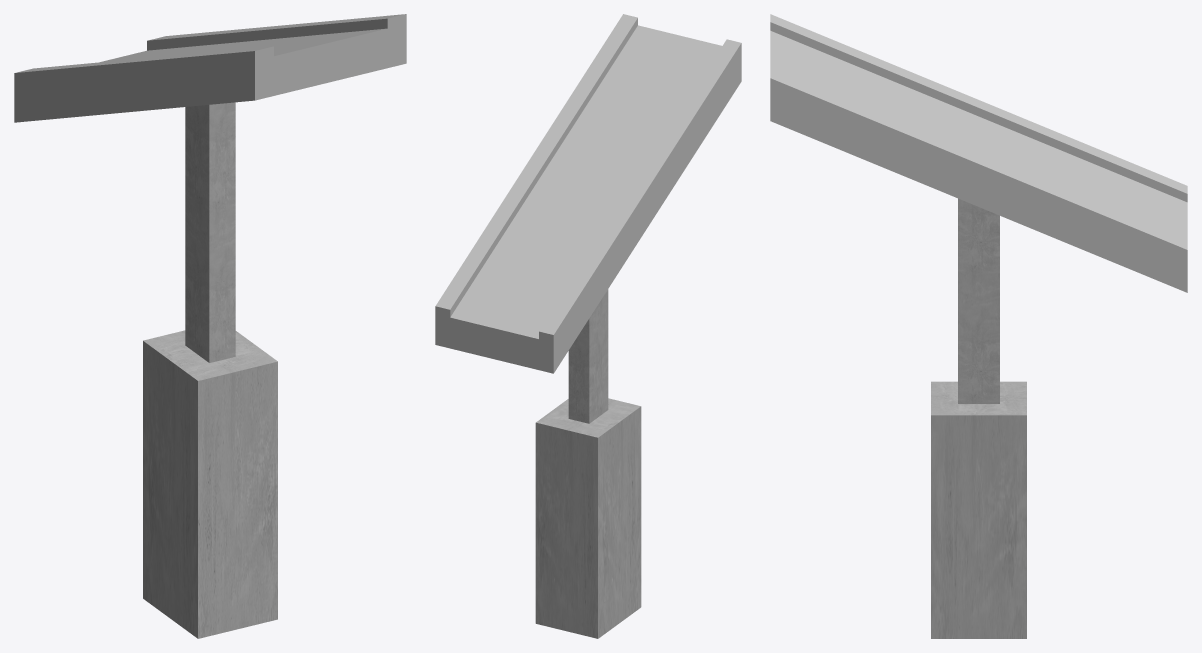
File: VerticalBridge.fbx
3 views of the same model, side by side, from view 1: azimuth 30°, elevation 25°; view 2: azimuth 150°, elevation 25°; view 3: azimuth 270°, elevation 25° (orthographic). The views are drawn at different scales.
Visible parts, largest first — view 1: Bridge; view 2: Bridge; view 3: Bridge.
Boxes of the visible parts, x1,y1,x2,y2 form: Bridge: (14, 14, 406, 638); Bridge: (435, 14, 741, 638); Bridge: (770, 14, 1187, 638).
Bounding box in the file's own units: 800 × 2200 × 3350.
